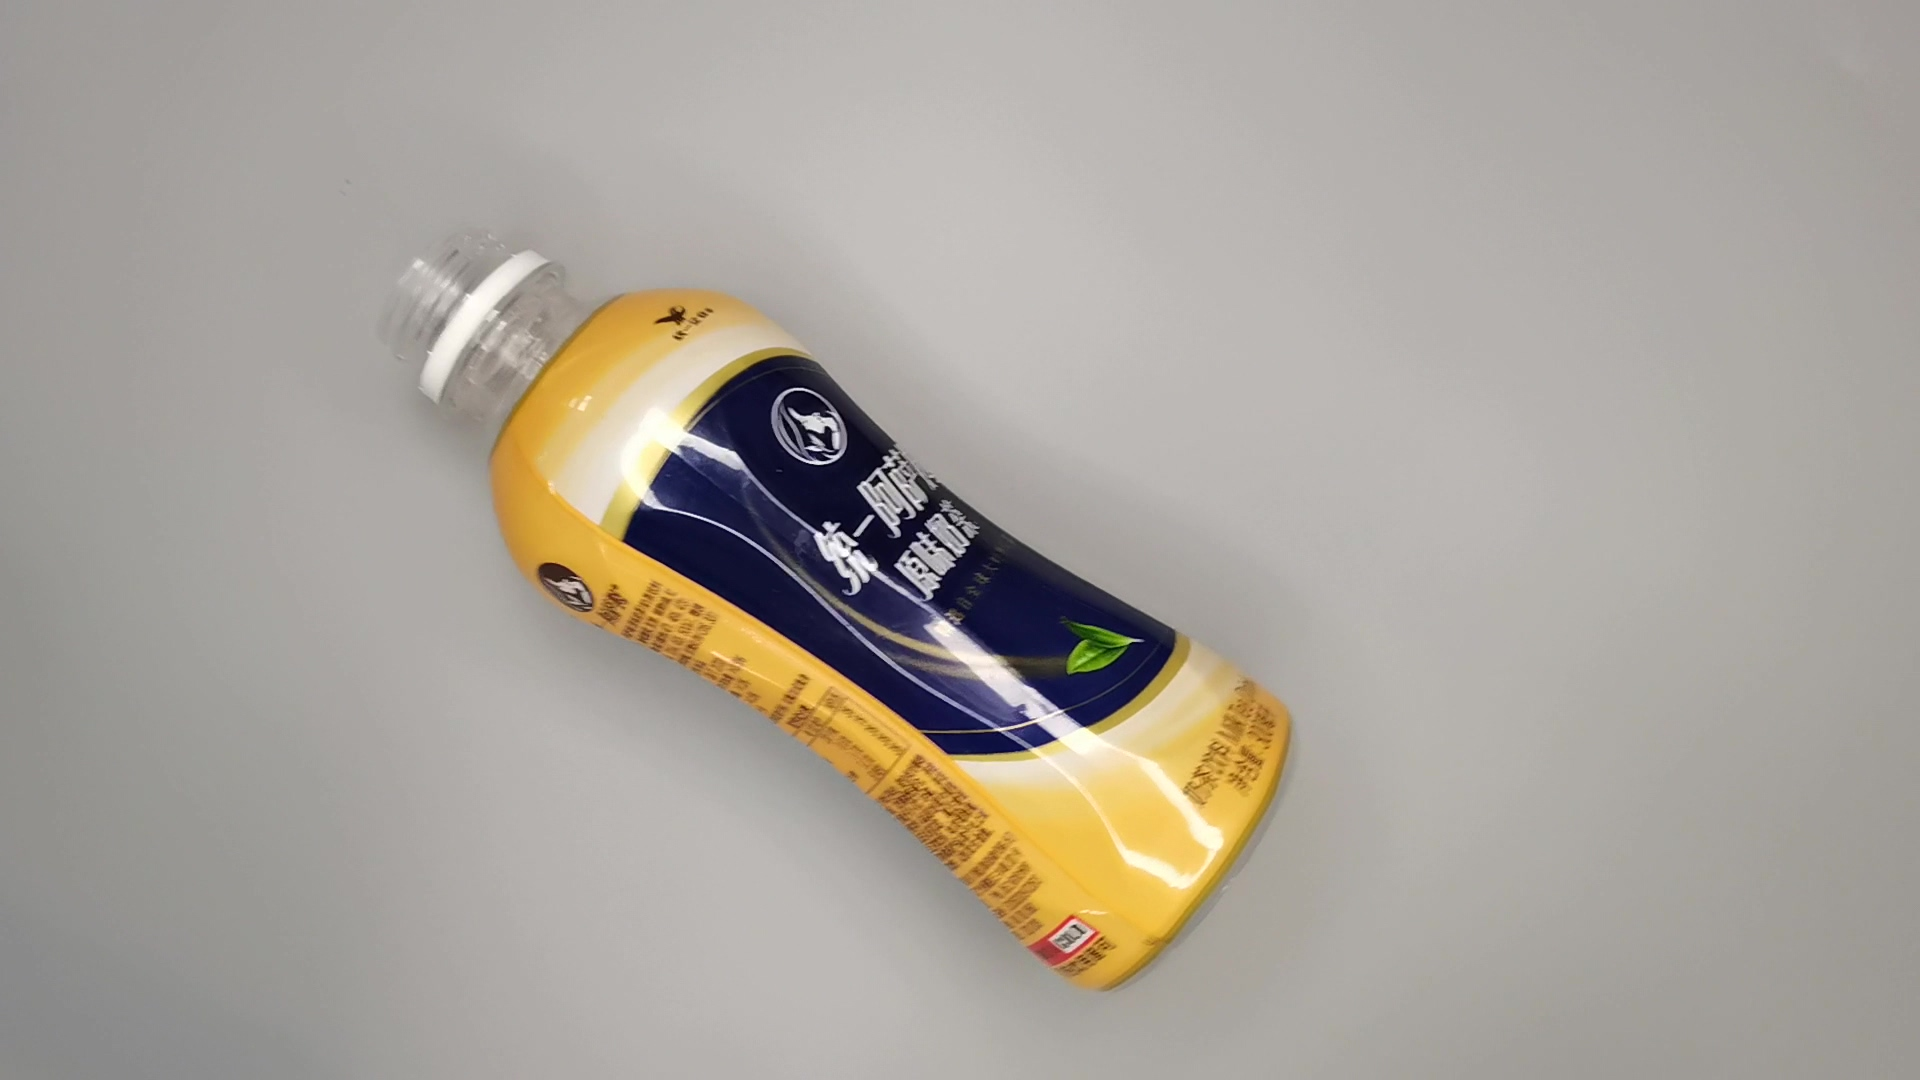bottle: (371, 218, 1302, 998)
